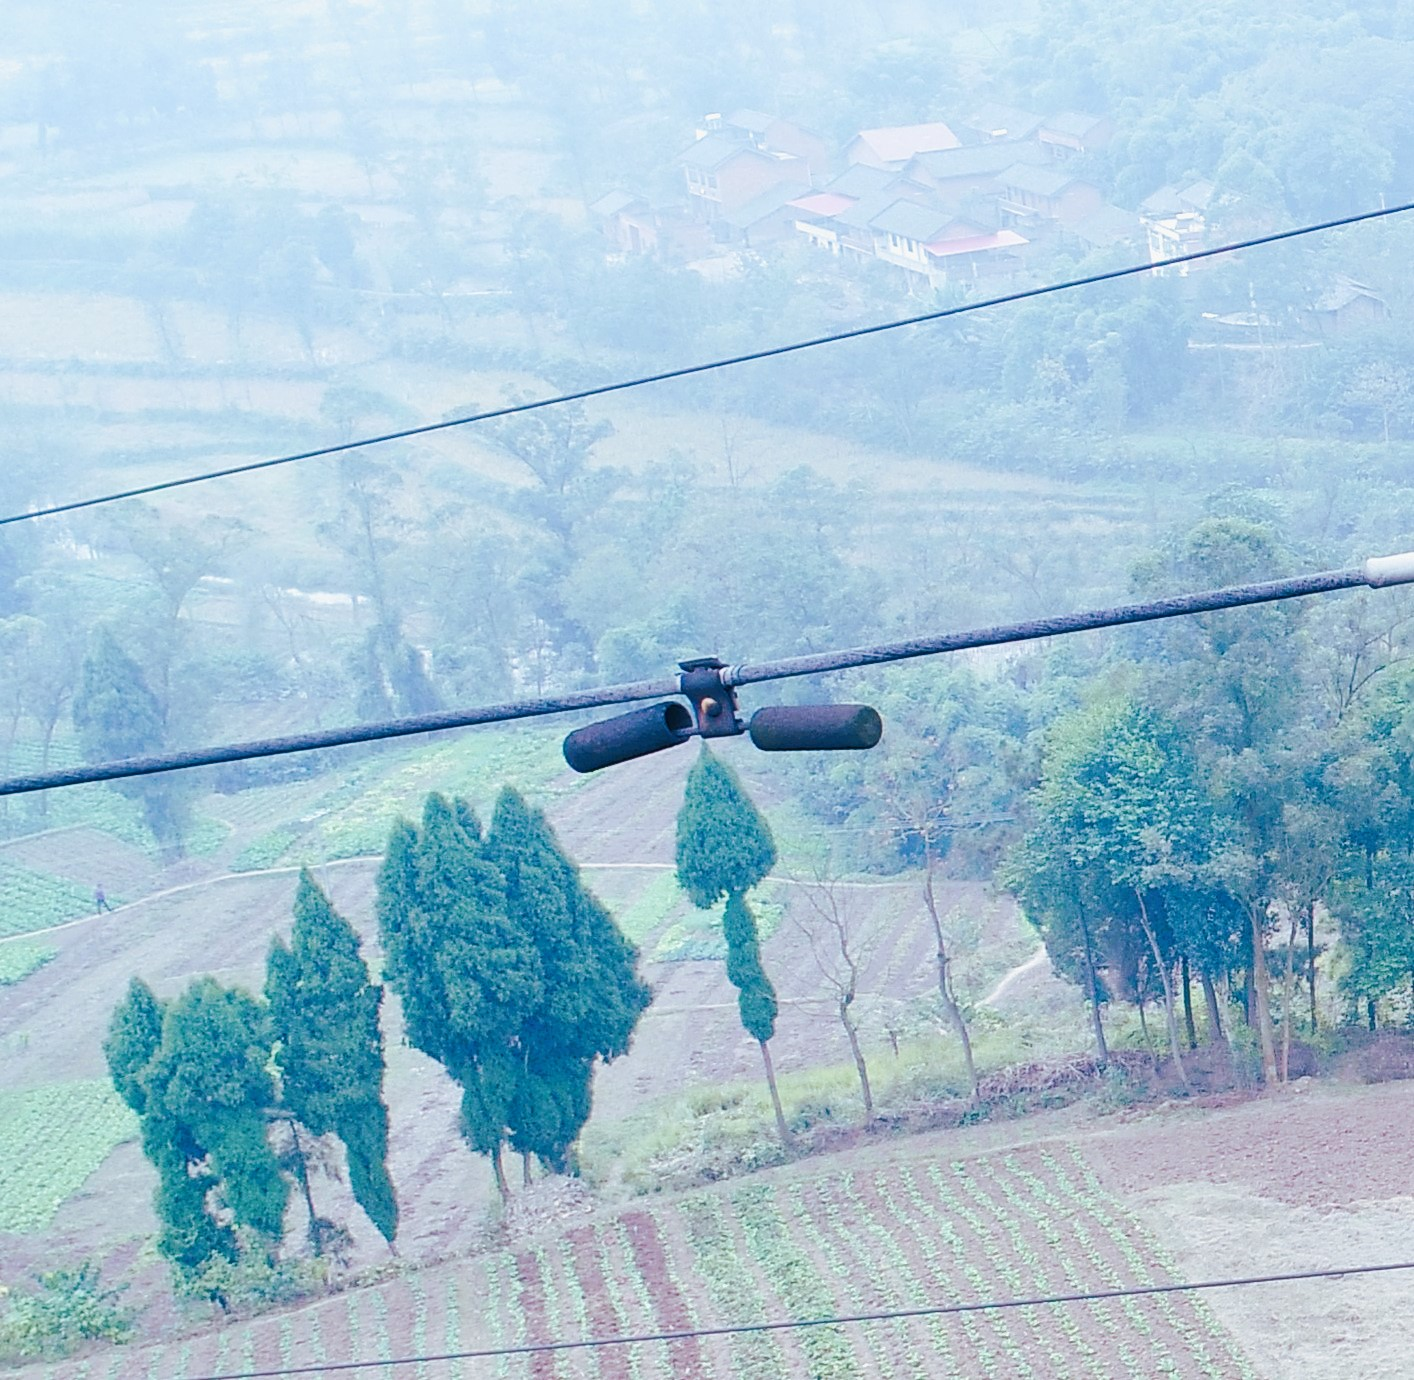Shockproof hammer: (547, 641, 903, 784)
